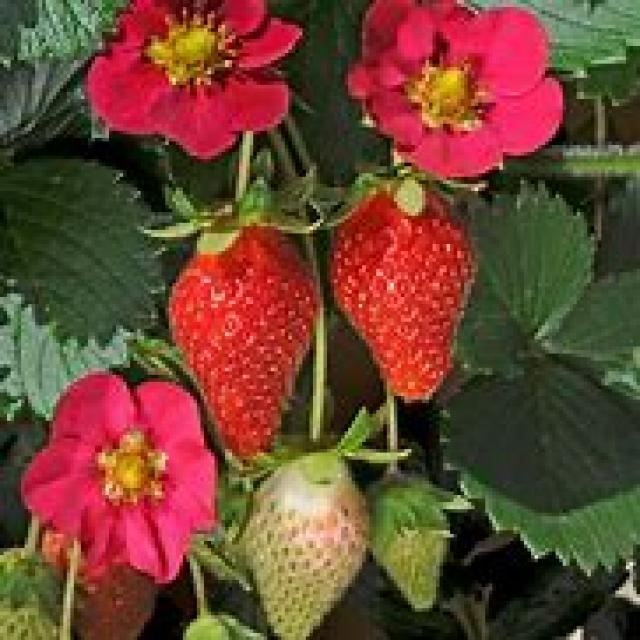Berries strawberries/blueberries: (166, 232, 318, 456), (330, 202, 477, 402), (244, 471, 368, 640)
